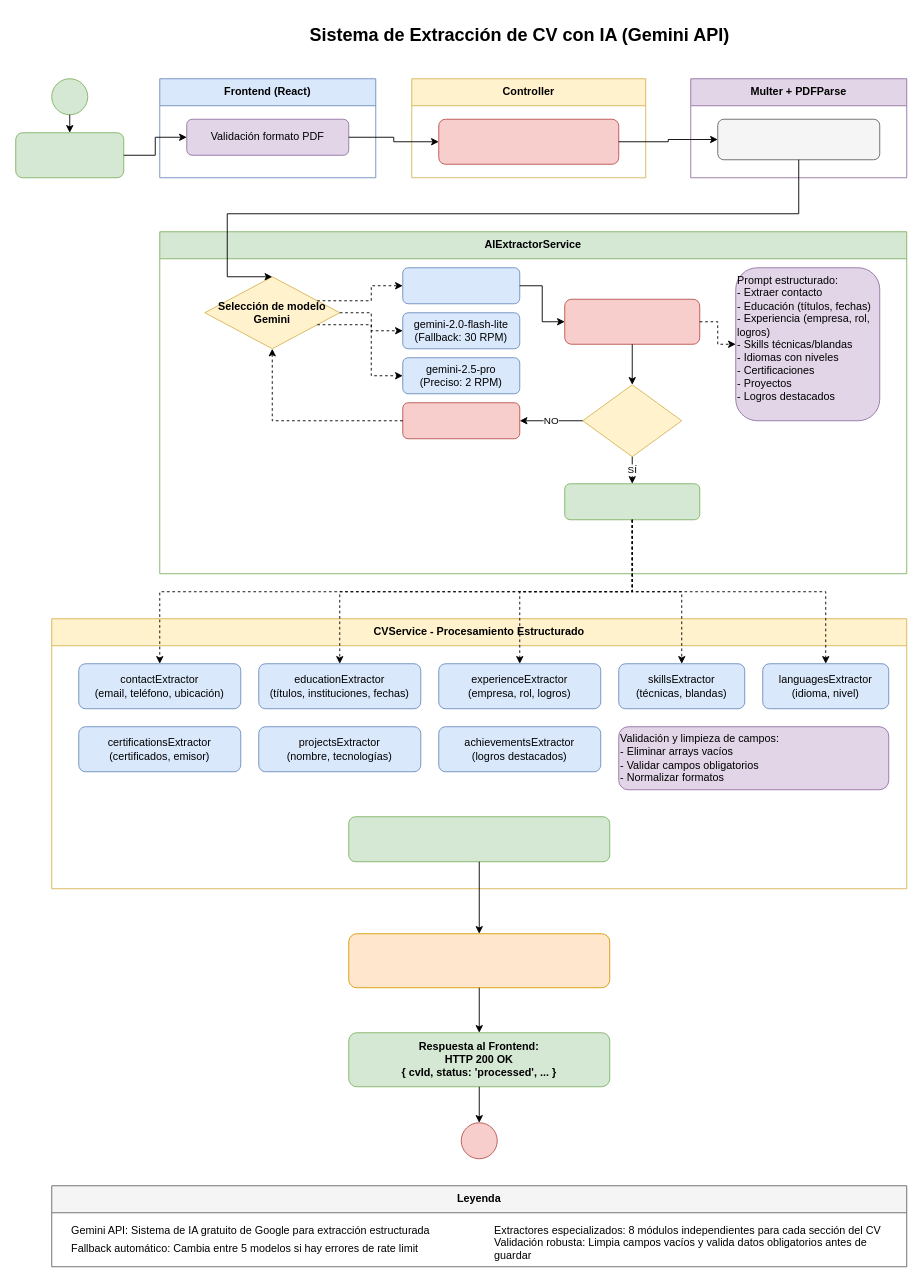
This 923x1283 diagram has some shape labels left out. The shapes that lost their labels are listed below. From the top down, each one's centre as x and y in pixels, then its label:
At point (69, 155): "Usuario sube CV.pdf".
At point (528, 141): "POST /api/cv/upload Recibe multipart/form-data".
At point (798, 139): "Extracción texto plano del PDF".
At point (461, 285): "gemini-2.0-flash (Principal: 15 RPM)".
At point (632, 321): "Llamada API REST generateContent".
At point (461, 420): "Cambiar a siguiente modelo (cooldown 60s)".
At point (632, 420): "¿Respuesta exitosa?".
At point (632, 501): "Parsear respuesta JSON".
At point (479, 839): "Guardar/Actualizar en MongoDB: CV.findOneAndUpdate()".
At point (479, 960): "cvNotificationHelper Envía notificación: 'CV procesado exitosamente'".
